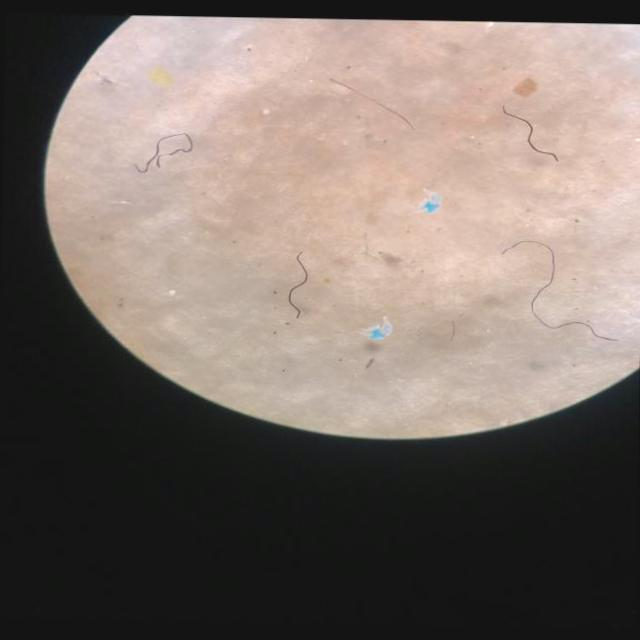fiber: (502, 240, 614, 339), (328, 80, 410, 128), (502, 107, 557, 161), (135, 134, 190, 172), (288, 253, 307, 319)
film: (366, 319, 390, 339), (421, 194, 437, 212)
fragment: (513, 79, 535, 96), (149, 69, 170, 86)
pellet: (168, 290, 174, 295)
